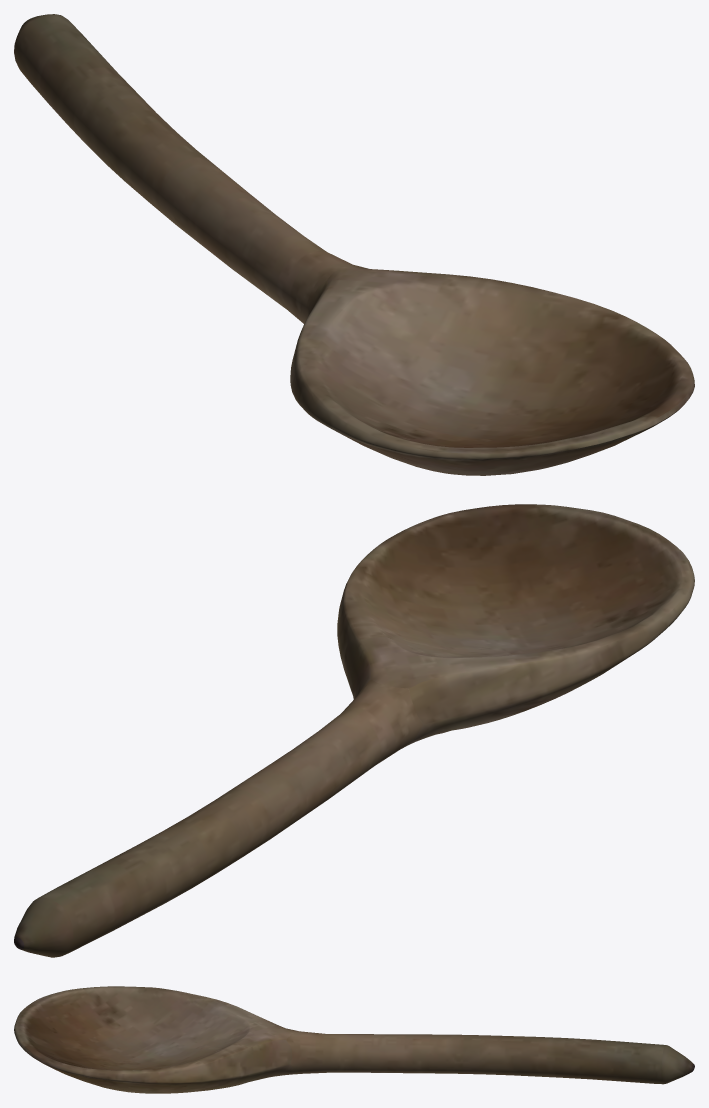
Rendered from wooden_spoon.glb.
3 renders of one model, top to bottom at view 1: azimuth 30°, elevation 25°; view 2: azimuth 150°, elevation 25°; view 3: azimuth 270°, elevation 25°, orthographic. The views are drawn at different scales.
Visible parts, largest first — view 1: wooden_spoon; view 2: wooden_spoon; view 3: wooden_spoon.
Part boxes in pixels (bbox=[...]): wooden_spoon: bbox=[14, 14, 694, 475]; wooden_spoon: bbox=[14, 504, 694, 957]; wooden_spoon: bbox=[14, 986, 694, 1093].
Size of the model in its own units: 0.0866 by 0.0251 by 0.2776.
Materials: 1 (1 with a texture image).
